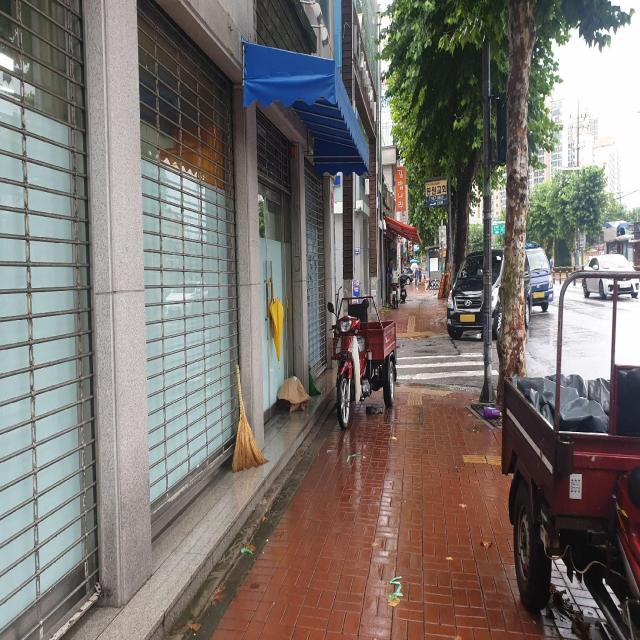auto ahead at: (323, 285, 403, 435)
tree ahead at: (493, 0, 534, 367)
